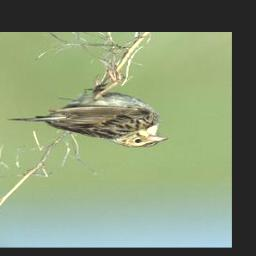Sparrow: (4, 66, 176, 152)
